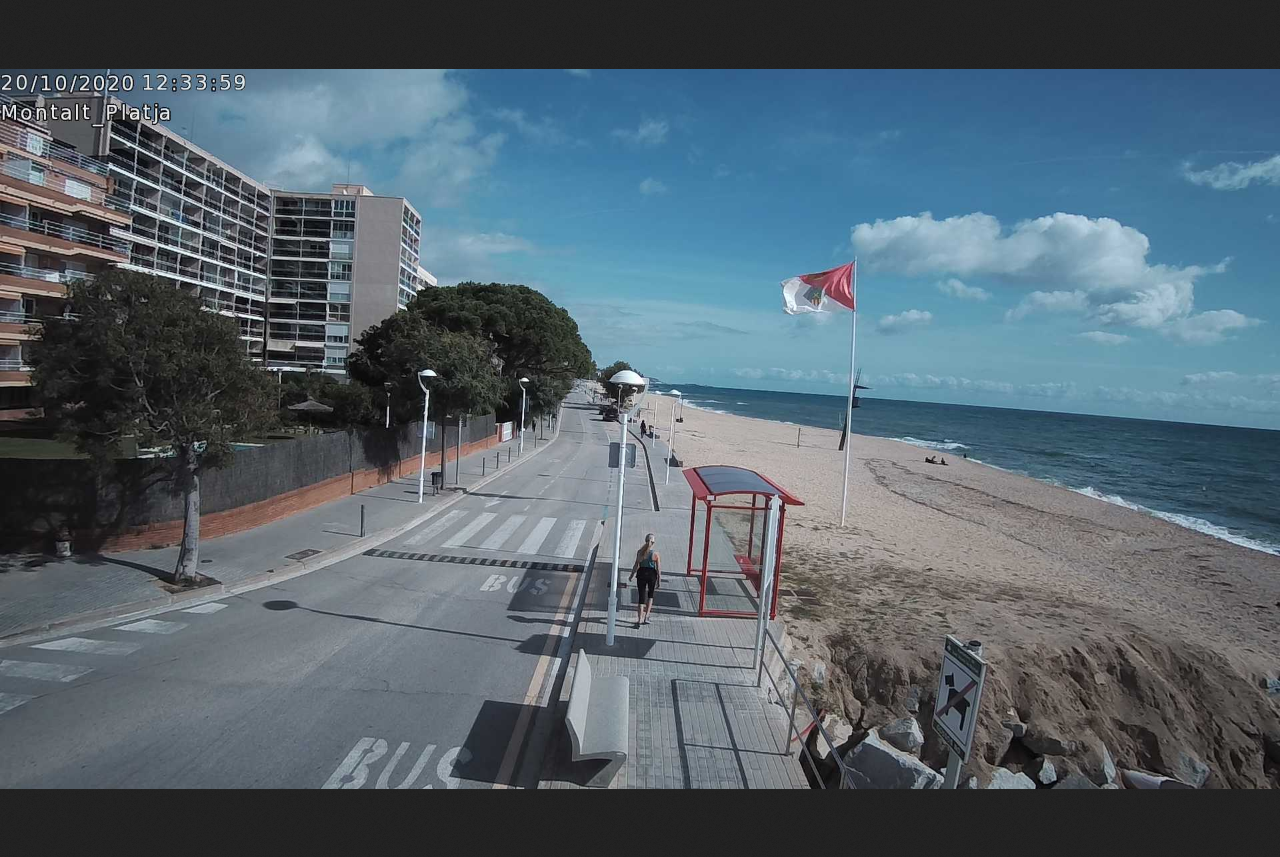yes: (783, 264, 857, 317)
